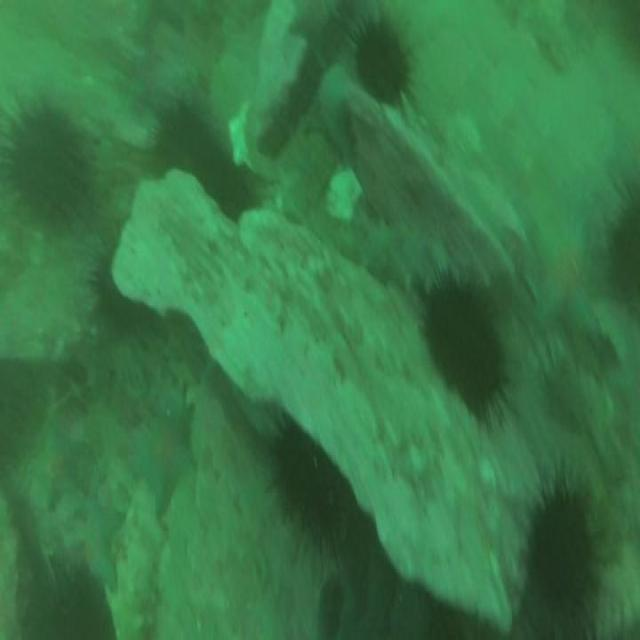echinus: (427, 273, 503, 419), (156, 100, 242, 216), (12, 110, 86, 230), (527, 494, 597, 606), (276, 430, 348, 537), (356, 16, 408, 103)
scallop: (327, 167, 361, 223), (446, 108, 480, 160)
starfish: (534, 212, 600, 341), (128, 408, 196, 514), (68, 493, 118, 588), (36, 426, 84, 511)
